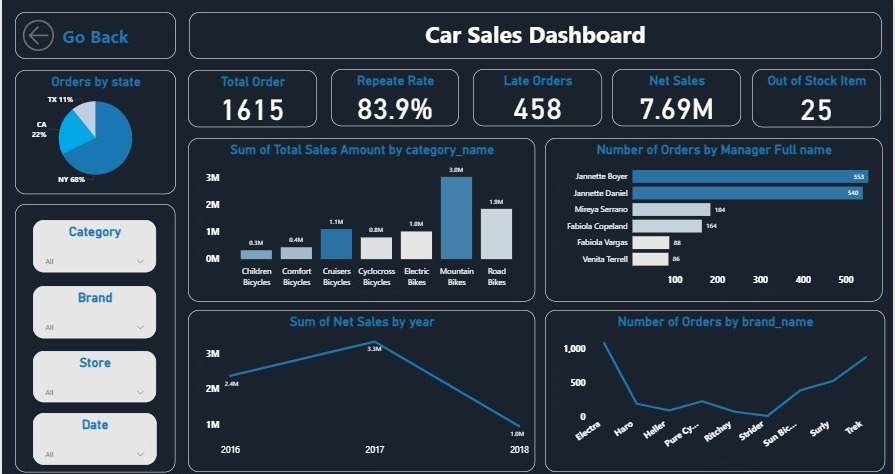

What the dashboard file says about the page in this screenshot:
{"tool":"powerbi","page":{"name":"Main page","canvas":[1280,900],"ordinal":1},"visuals":[{"type":"card","title":"orders","fields":{"Values":["orders_item.Number of Orders"]},"box":[276.7,133.3,180,105],"z":0},{"type":"card","title":"Late Order","fields":{"Values":["orders_item.Late Shipments Count"]},"box":[665,136.7,173.3,101.7],"z":1000},{"type":"card","title":"Repeate Rate","fields":{"Values":["orders_item.Repeate customer Rate True"]},"box":[470,142,170,96],"z":2000},{"type":"card","title":"Stock Quantity","fields":{"Values":["Stock.Total Stock Quantity"]},"box":[863.3,136.7,165,101.7],"z":3000},{"type":"card","title":"Out Of Item ","fields":{"Values":["Stock.Out of Stock Items"]},"box":[1055,136.7,170,101.7],"z":4000},{"type":"actionButton","box":[74.3,75.7,132.9,40],"z":5000},{"type":"slicer","fields":{"Values":["Date.date Hierarchy.year","Date.date Hierarchy.quarter","Date.date Hierarchy.month","Date.date Hierarchy.day_of_month"]},"box":[50,133.3,175,153.3],"z":6000},{"type":"lineChart","title":"Orders by category_name","fields":{"Y":["orders_item.Number of Orders"],"Category":["products.category_name","products.brand_name","Stores.store_name"]},"box":[276.7,663.3,951.7,180],"z":7000},{"type":"lineChart","title":" Net Sales by date","fields":{"Y":["orders_item.Net Sales"],"Category":["Date.date Hierarchy.year","Date.date Hierarchy.quarter","Date.date Hierarchy.month","Date.date Hierarchy.day_of_month"]},"box":[760,256.7,468.3,181.7],"z":8000},{"type":"clusteredColumnChart","title":" Orders by Manager & Team","fields":{"Category":["staff.staff And team.Manager Full name","staff.staff And team.staff_id"],"Y":["orders_item.Number of Orders"]},"box":[278,253,467,185],"z":9000},{"type":"slicer","fields":{"Values":["Stores.store_name"]},"box":[51.7,320,175,130],"z":10000},{"type":"slicer","fields":{"Values":["products.category_name"]},"box":[50,466.7,175,156.7],"z":11000},{"type":"slicer","fields":{"Values":["products.brand_name"]},"box":[51.7,651.7,175,150],"z":12000},{"type":"lineChart","title":"Total Sales Amount by category_name","fields":{"Y":["orders_item.Total Sales Amount"],"Category":["products.category_name","products.brand_name","Stores.store_name"]},"box":[283.3,451.7,941.7,185],"z":13000},{"type":"image","box":[355,55,228.3,60],"z":14000}]}

Visuals, with their boxes on the page's 1280x900 design canvas (x1, y1, x2, y2). These are canvas units, not pixel positions in the 895x474 screenshot, which may show the page scaled, cropped or inside an application window:
"orders" card: 277/133/457/238
"Late Order" card: 665/137/838/238
"Repeate Rate" card: 470/142/640/238
"Stock Quantity" card: 863/137/1028/238
"Out Of Item " card: 1055/137/1225/238
actionButton: 74/76/207/116
slicer - Date.date Hierarchy.year x Date.date Hierarchy.quarter: 50/133/225/287
"Orders by category_name" lineChart: 277/663/1228/843
" Net Sales by date" lineChart: 760/257/1228/438
" Orders by Manager & Team" clusteredColumnChart: 278/253/745/438
slicer - Stores.store_name: 52/320/227/450
slicer - products.category_name: 50/467/225/623
slicer - products.brand_name: 52/652/227/802
"Total Sales Amount by category_name" lineChart: 283/452/1225/637
image: 355/55/583/115
